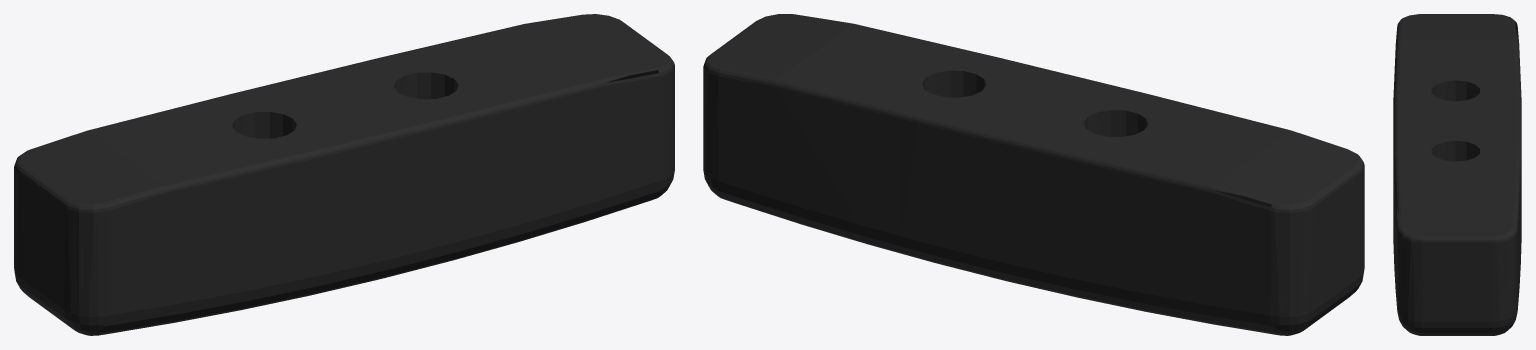
The model's file is creative_camera.dae.
The picture shows the model from 3 angles, left to right: view 1: azimuth 30°, elevation 25°; view 2: azimuth 150°, elevation 25°; view 3: azimuth 270°, elevation 25°; orthographic projection. The views are drawn at different scales.
Parts seen in each view (by area): view 1: SketchUp (×3); view 2: SketchUp (×3); view 3: SketchUp (×3).
Boxes of the visible parts, left/top/right/bottom form: SketchUp (×3): left=14, top=14, right=674, bottom=335; SketchUp (×3): left=703, top=14, right=1364, bottom=335; SketchUp (×3): left=1393, top=14, right=1521, bottom=335.
Size of the model in its own units: 4.21 by 1.01 by 1.02.
Materials: 1 (1 with a texture image).
